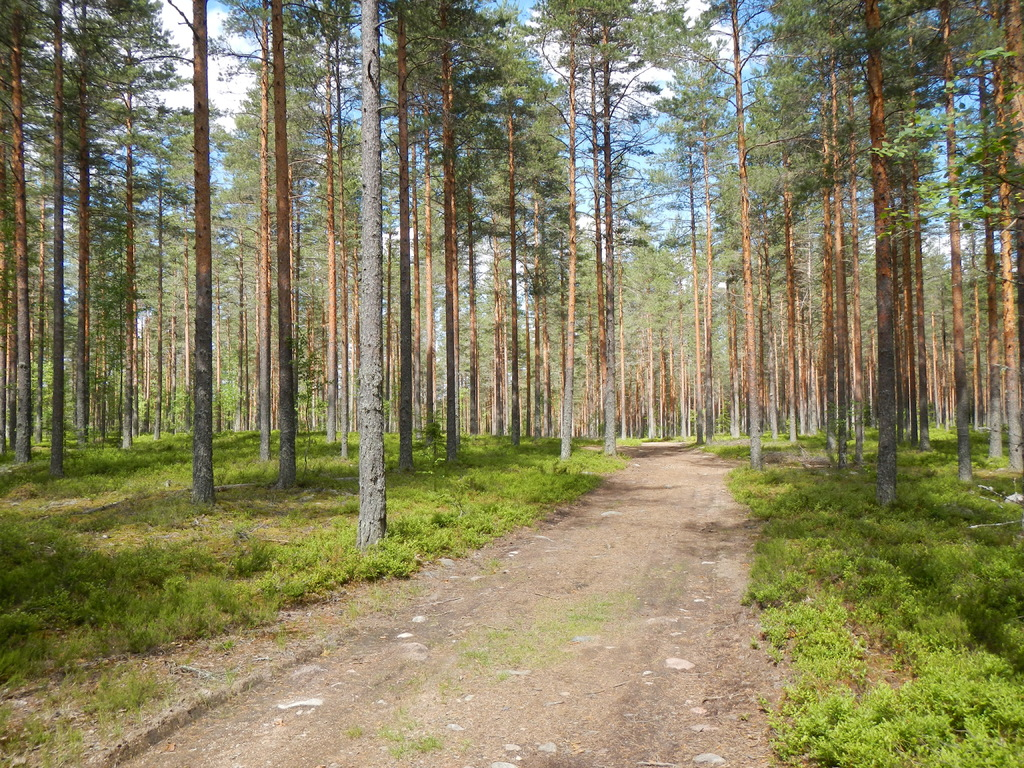Tree: (0, 0, 1023, 552), (773, 0, 978, 513), (387, 0, 542, 465), (518, 0, 654, 471), (75, 0, 202, 459), (675, 0, 797, 477), (551, 0, 673, 457), (630, 39, 757, 452), (203, 0, 310, 441), (460, 14, 564, 449), (302, 0, 394, 458), (0, 0, 69, 472), (254, 0, 309, 494), (663, 101, 734, 453), (526, 126, 589, 446)
